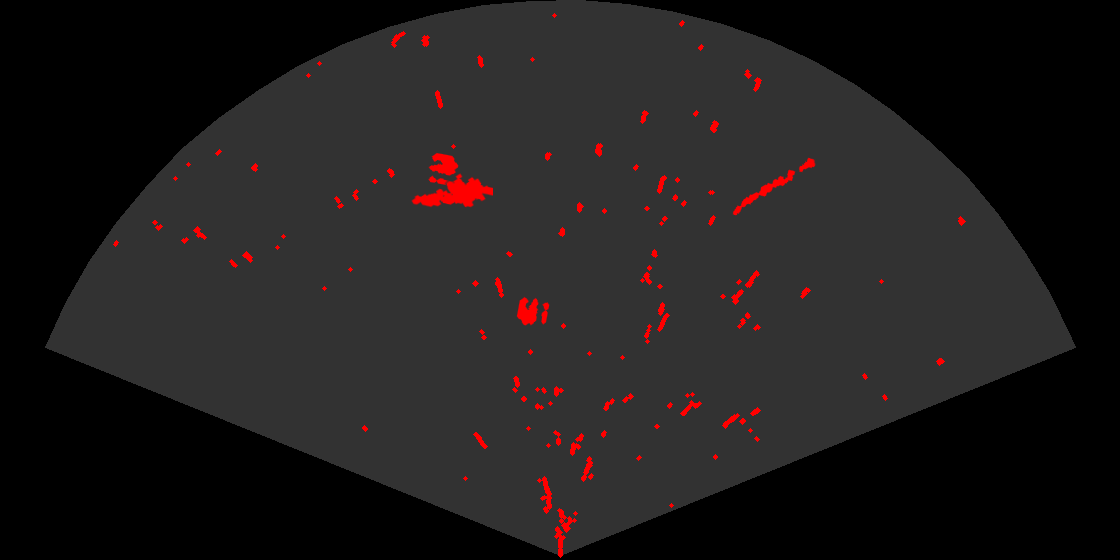ball: (427, 151, 460, 187), (515, 295, 551, 327)
chain: (731, 156, 817, 217)
frogman: (410, 172, 493, 209)
